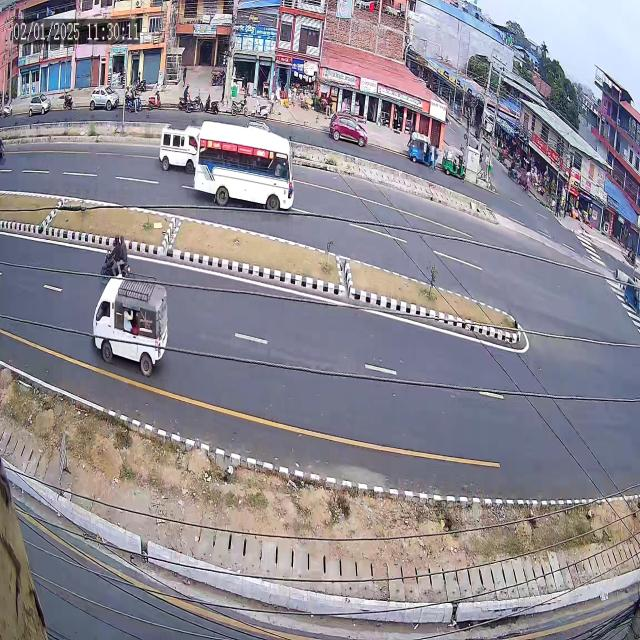auto: (401, 128, 437, 172), (438, 142, 466, 185)
bus: (192, 112, 302, 238)
car: (323, 108, 369, 152), (86, 81, 118, 114), (24, 90, 51, 124)
motorcycle: (98, 228, 131, 284)
van: (87, 276, 174, 382), (152, 126, 205, 176)
